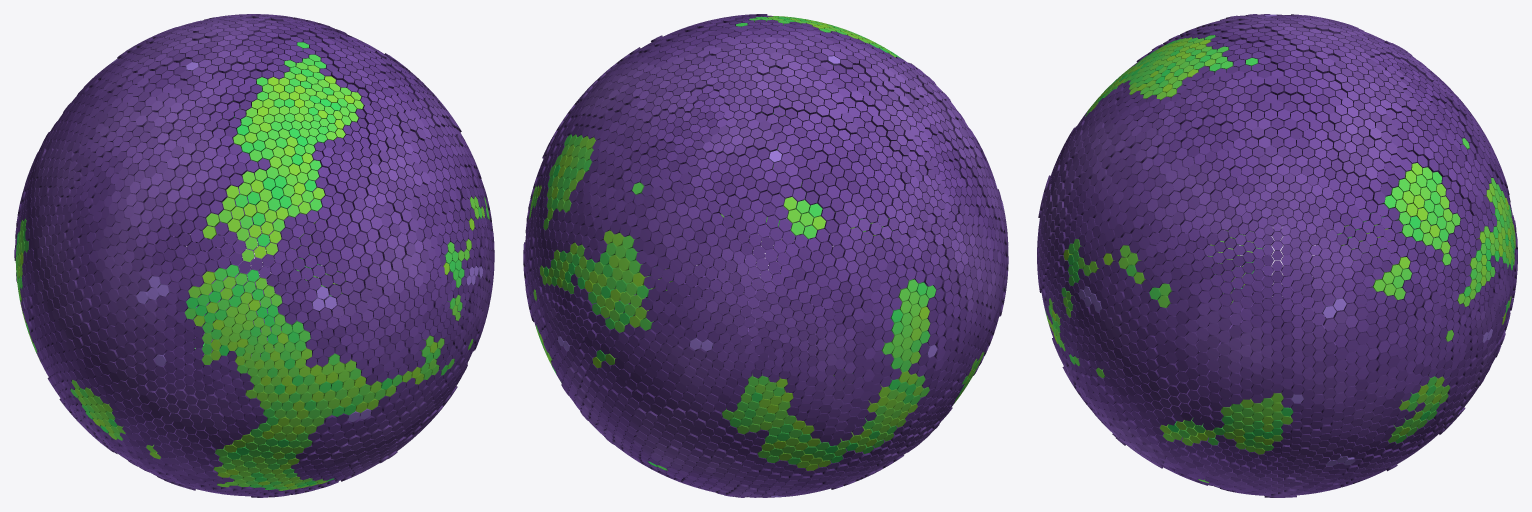
The model's file is toxic_0.glb.
3 views of the same model, side by side, from view 1: azimuth 30°, elevation 25°; view 2: azimuth 150°, elevation 25°; view 3: azimuth 270°, elevation 25° (orthographic).
Parts seen in each view (by area): view 1: toxic_0; view 2: toxic_0; view 3: toxic_0.
Boxes of the visible parts, x1,y1,x2,y2 form: toxic_0: (14,14,494,497); toxic_0: (523,14,1008,497); toxic_0: (1037,14,1517,497).
Bounding box in the file's own units: 2.03 × 2.02 × 2.01.
